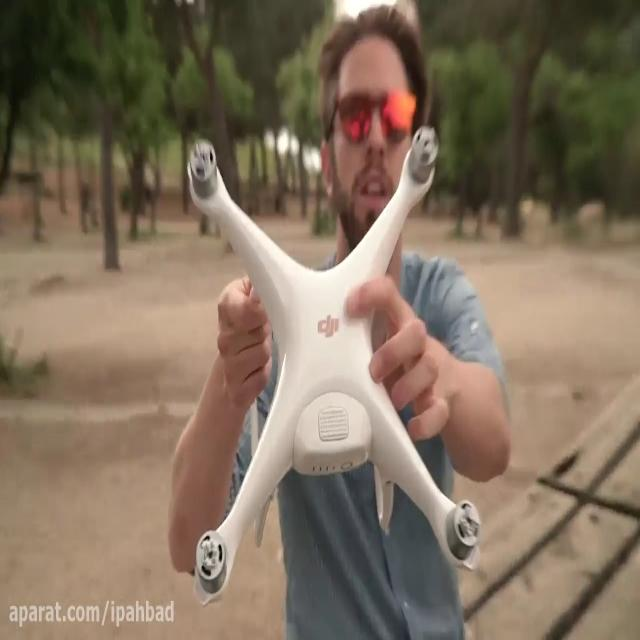drone: (187, 123, 483, 606)
